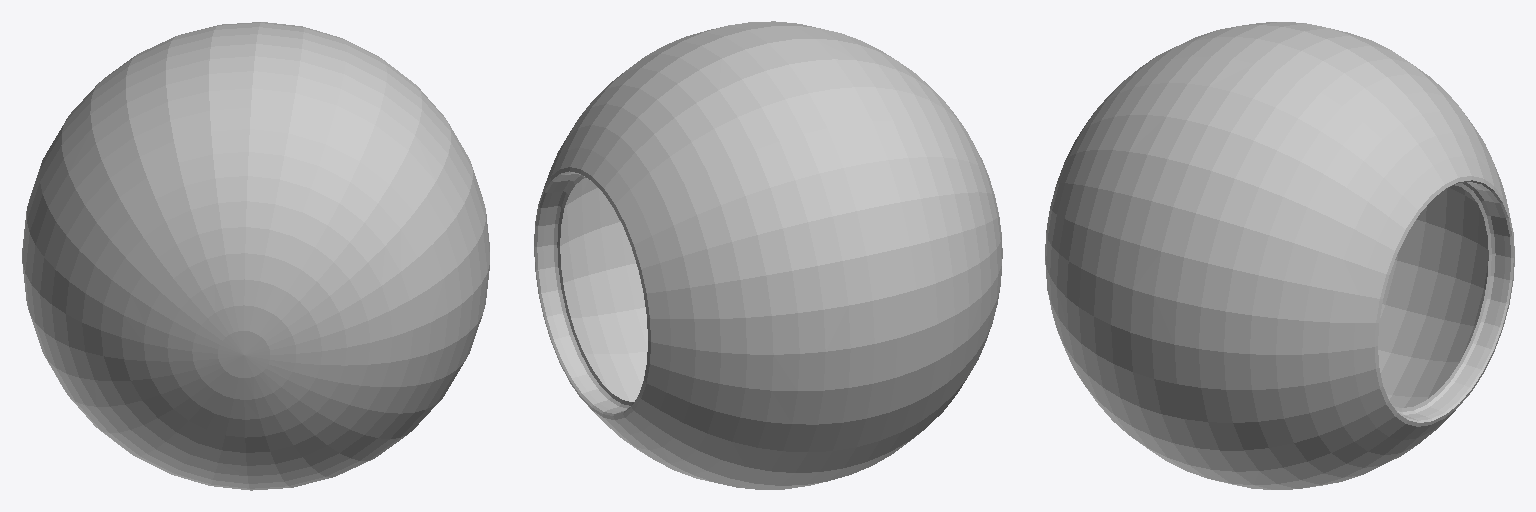
Rendered from sclera.obj.
3 views of the same model, side by side, from view 1: azimuth 30°, elevation 25°; view 2: azimuth 150°, elevation 25°; view 3: azimuth 270°, elevation 25° (orthographic).
Bounding box in the file's own units: 0.0182 × 0.0182 × 0.0182.